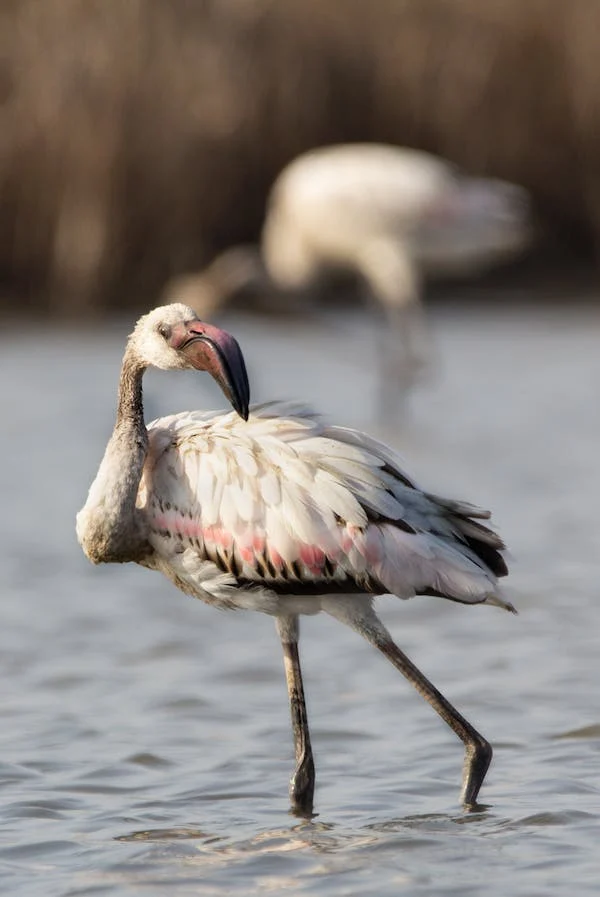Walking: (29, 254, 542, 856)
